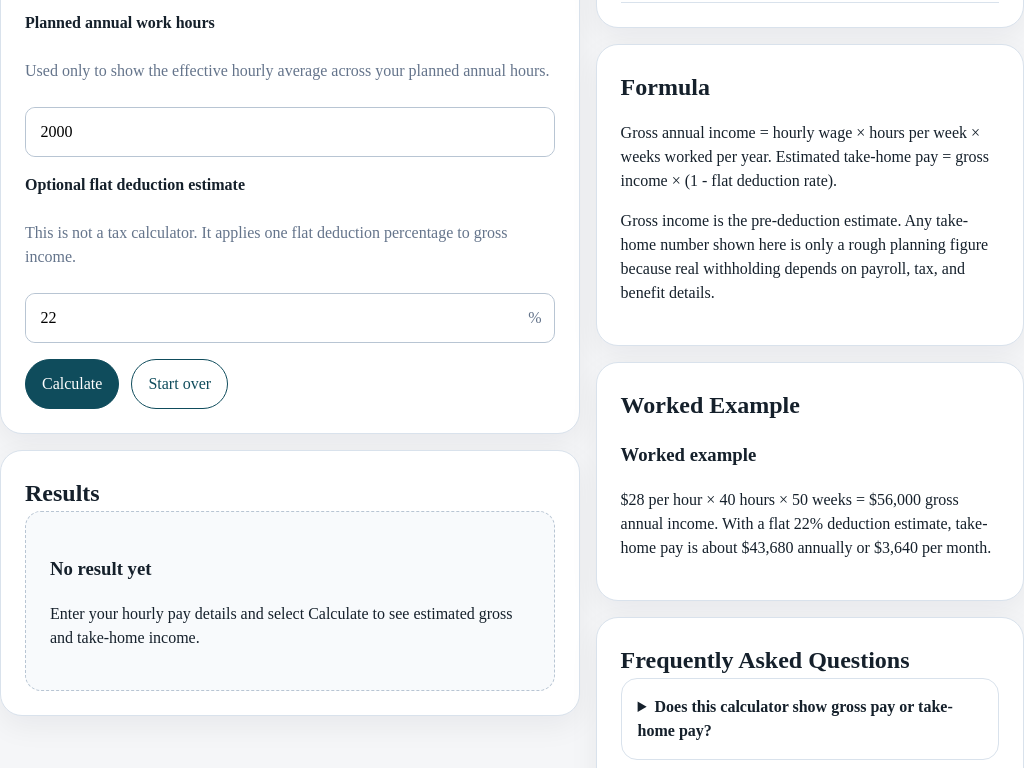
Test: calculator layout migration › hourly calculator shows an empty state, calculates, and resets
(page scrolled)
Expected: the heading "No result yet" is shown, [50,558,152,579]
Click the button "Calculate": {"x": 72, "y": 384} [25,359,119,409]
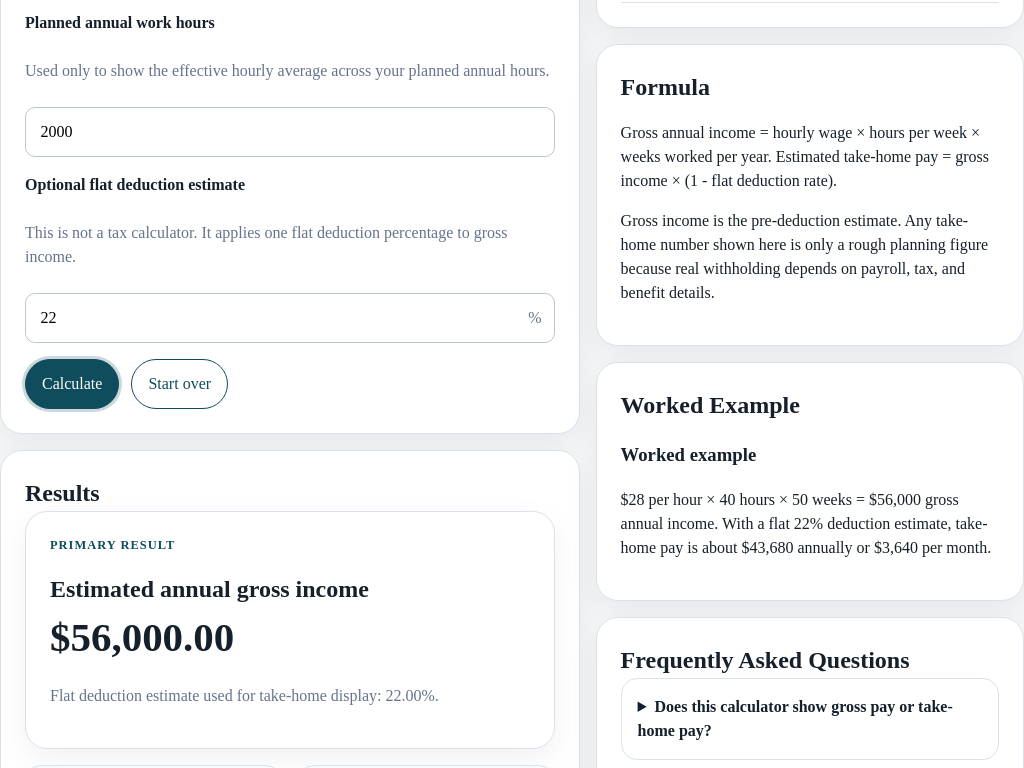
Result: the heading "Estimated annual gross income" is shown at [50,576,369,602]
Click the button "Start over": {"x": 180, "y": 384} [131,359,228,409]
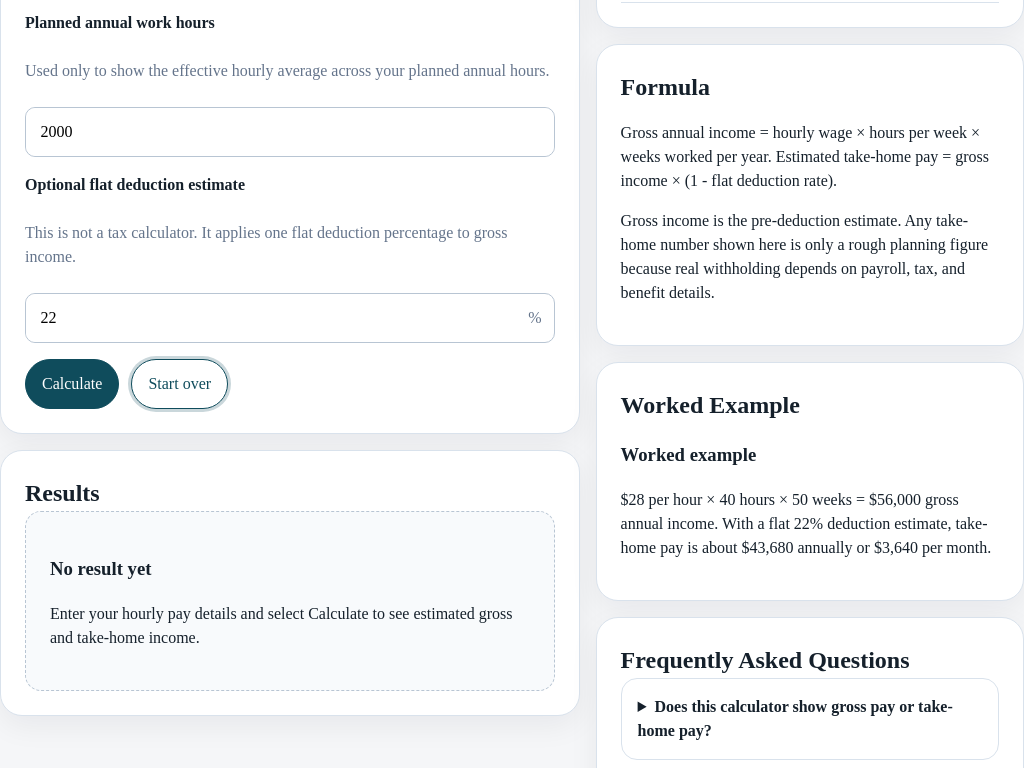
Result: the heading "No result yet" is shown at [50,558,152,579]
